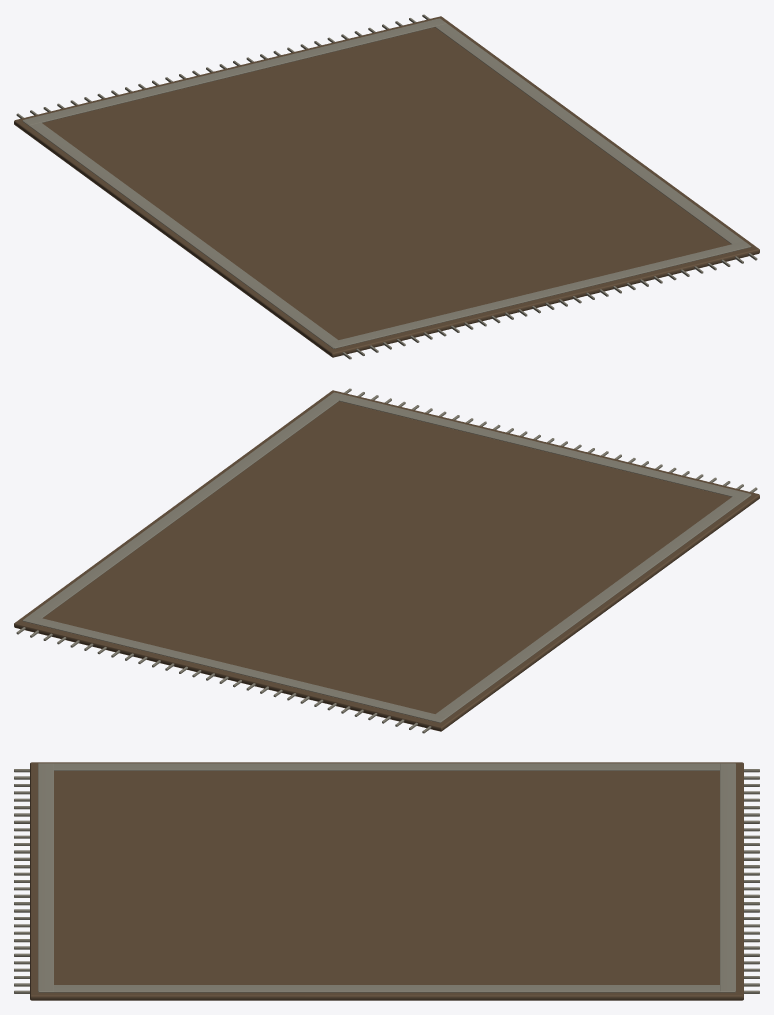
The model's file is Rug01.fbx.
3 views of the same model, one above another, from view 1: azimuth 30°, elevation 25°; view 2: azimuth 150°, elevation 25°; view 3: azimuth 270°, elevation 25° (orthographic). The views are drawn at different scales.
Visible parts, largest first — view 1: Rug01.001; view 2: Rug01.001; view 3: Rug01.001.
Boxes of the visible parts, x1,y1,x2,y2 form: Rug01.001: (14, 14, 759, 359); Rug01.001: (14, 388, 759, 733); Rug01.001: (14, 762, 759, 1000).
Bounding box in the file's own units: 190 × 2.75 × 256.
